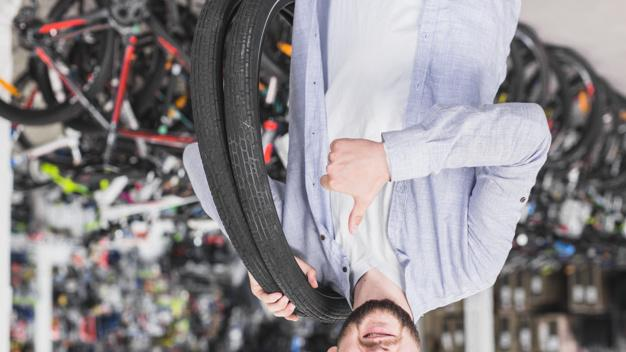thumbsdown: (320, 138, 369, 235)
